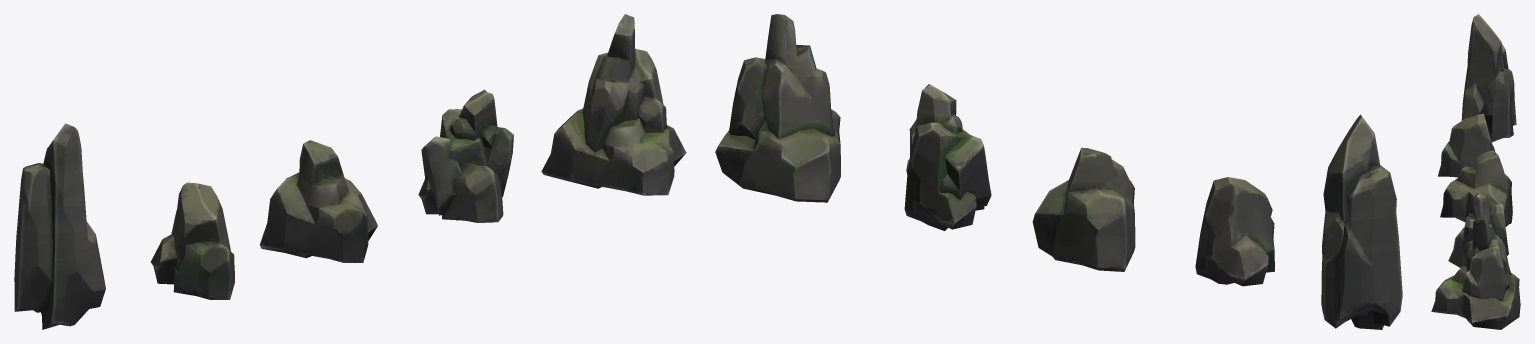
File: stone-pile.glb
3 renders of one model, left to right at view 1: azimuth 30°, elevation 25°; view 2: azimuth 150°, elevation 25°; view 3: azimuth 270°, elevation 25°, orthographic. The views are drawn at different scales.
Visible parts, largest first — view 1: Rock_4; view 2: Rock_4; view 3: Rock_4.
Boxes of the visible parts, left/top/right/bottom form: Rock_4: left=14, top=14, right=686, bottom=329; Rock_4: left=715, top=14, right=1402, bottom=329; Rock_4: left=1431, top=14, right=1520, bottom=329.
Size of the model in its own units: 2.7 by 0.8 by 0.4896.
1 material, 1 textured.
